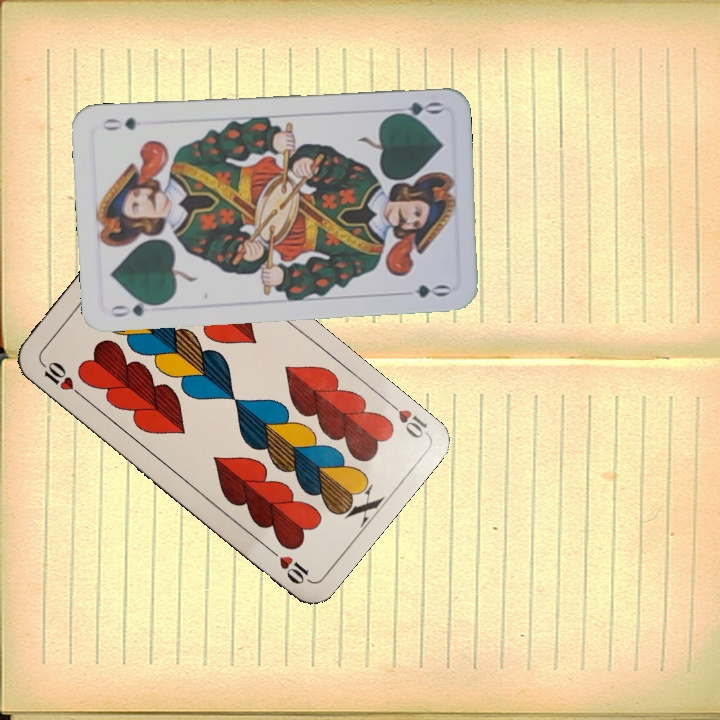GO: (106, 295, 165, 320), (385, 98, 444, 120)
H10: (381, 395, 430, 442), (36, 357, 86, 400)
